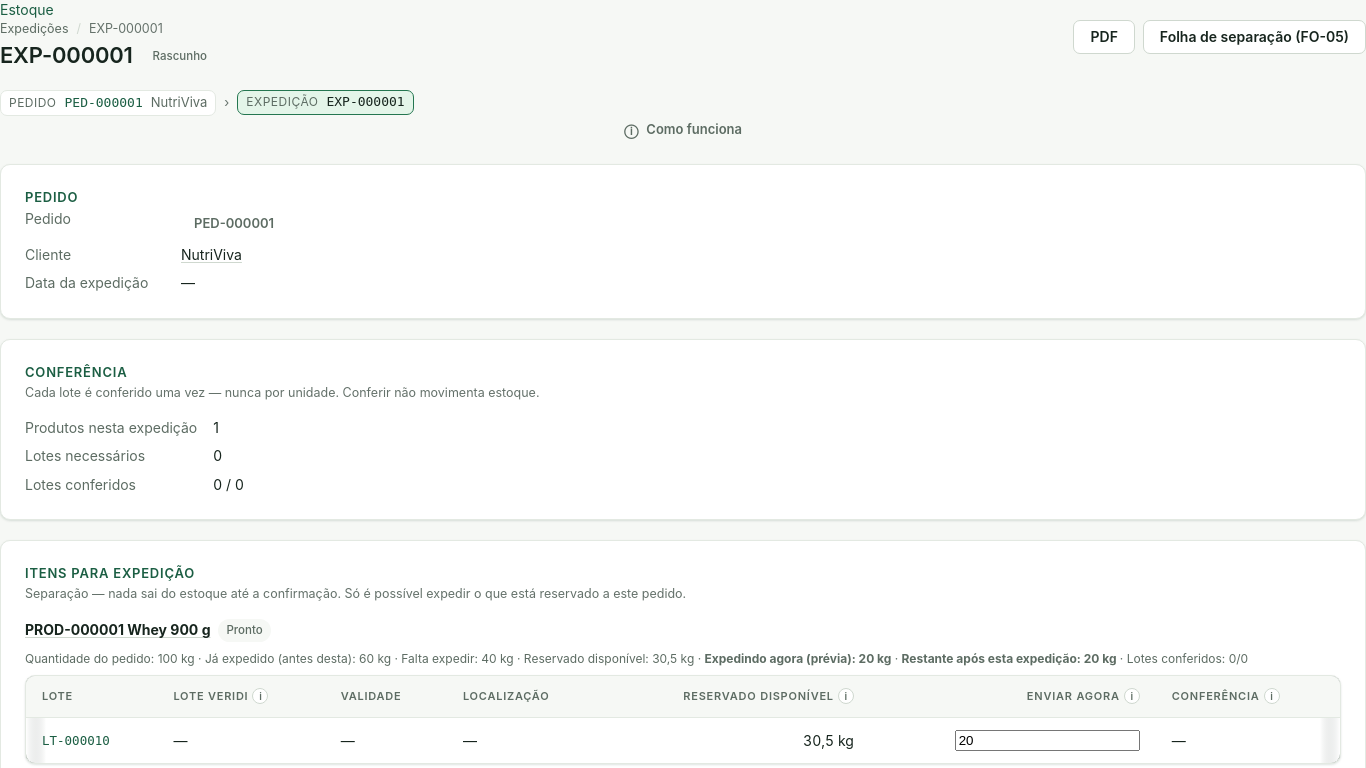
Scenario: Expedição — guarda de alterações não salvas › quantidade digitada: a faixa e o botão acordam, e sair pelo menu pergunta
Expected: the heading "EXP-000001" is shown, [0,42,133,70]
Replace the text in the field named "Quantidade do lote LT-000010" with "25" at (1047, 741), box [955,730,1140,751]
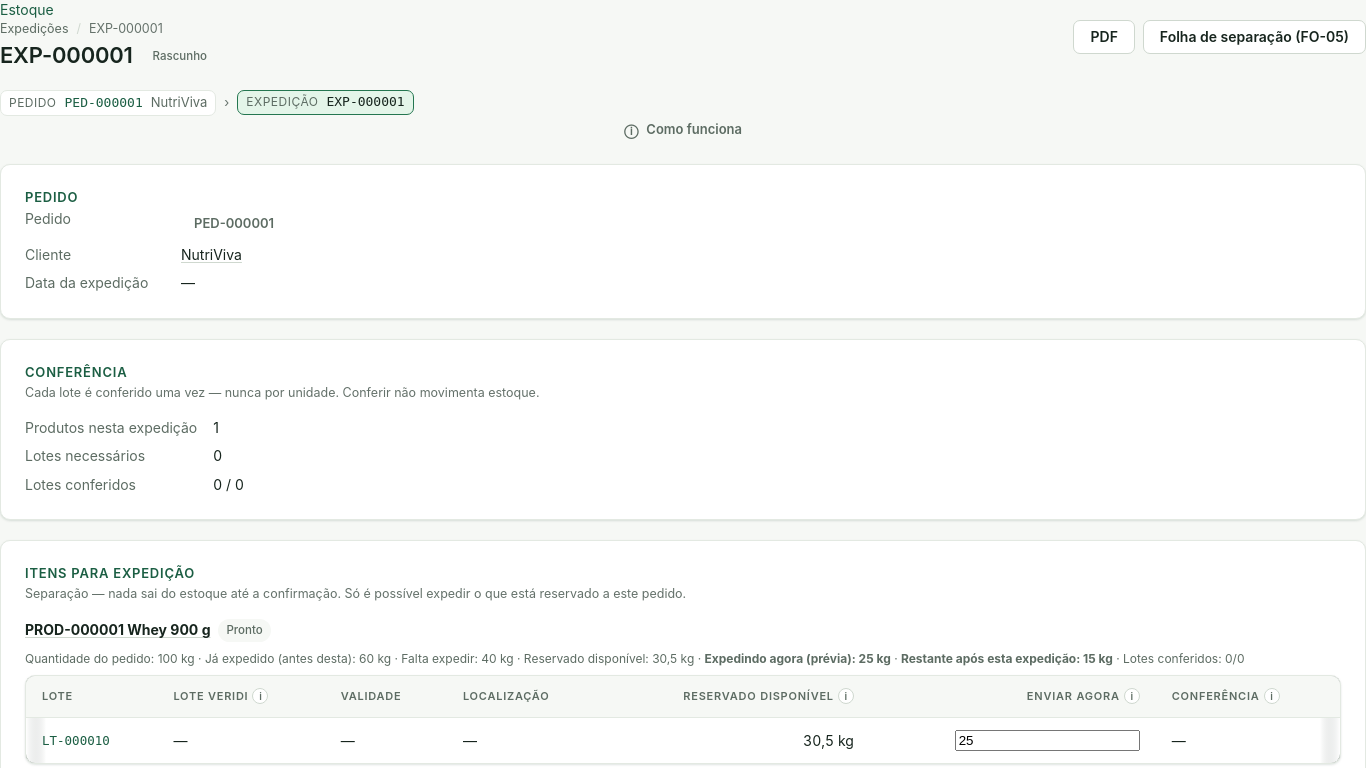
Click the link "Estoque" at (27, 10), box [0,1,54,18]
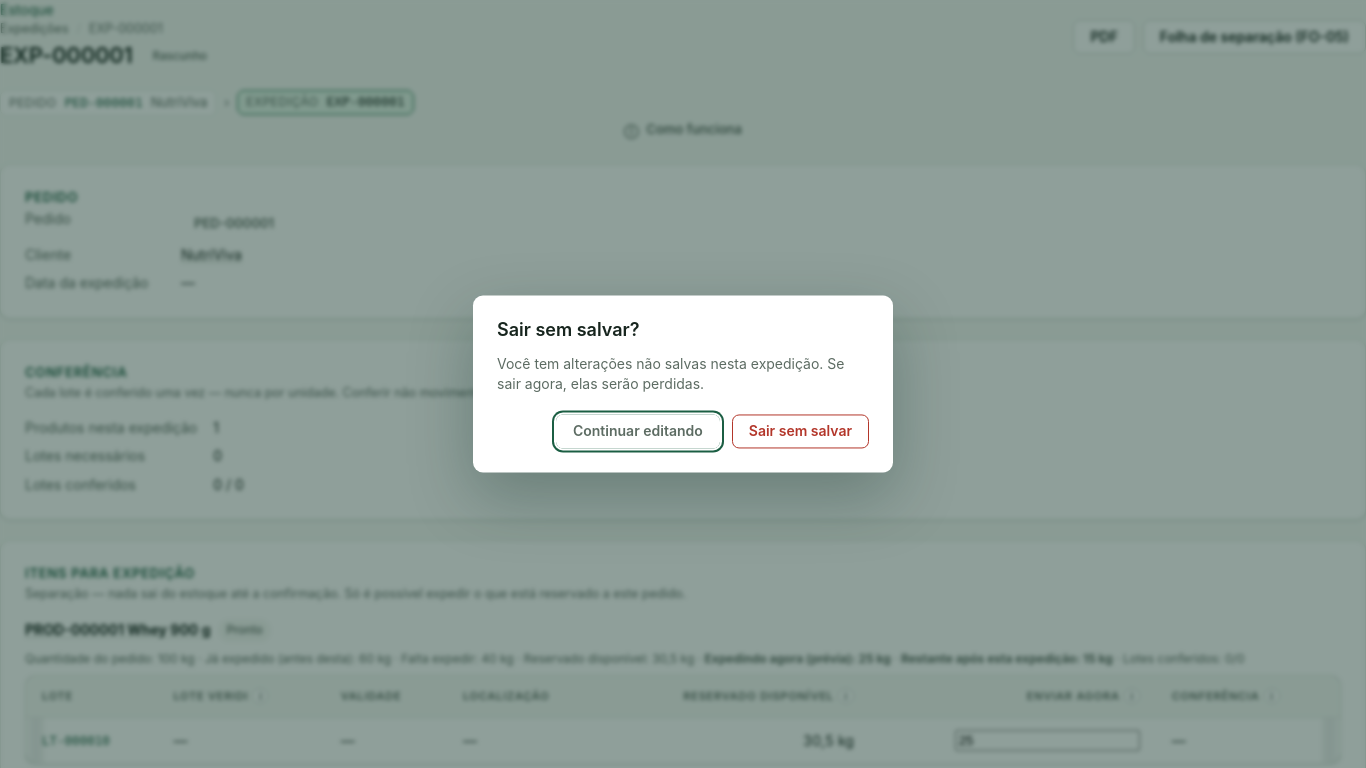
Result: the heading "Sair sem salvar?" is shown at [497,320,640,340]
Result: the text "alterações não salvas nesta expedição" is shown at [497,354,869,395]
Click the button "Continuar editando" at (638, 432), box [556,414,720,448]
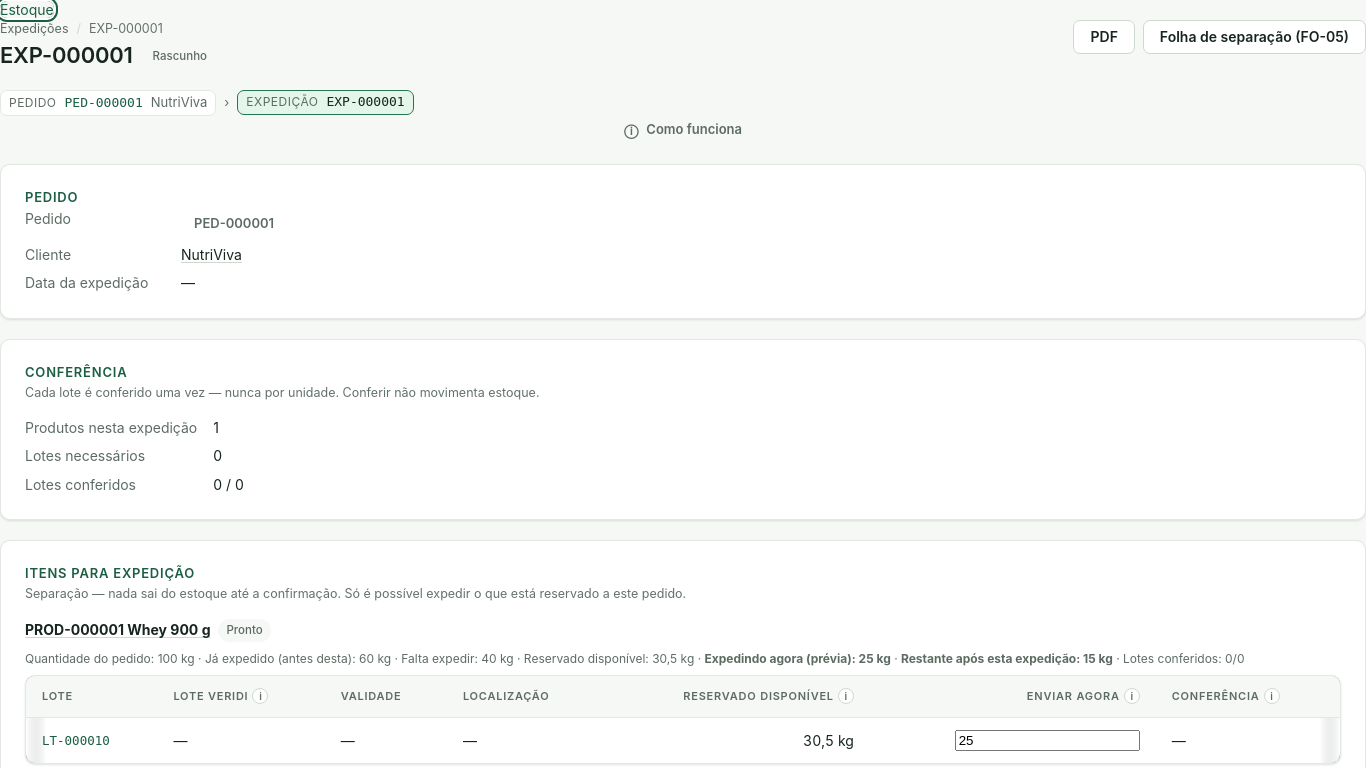
Result: the heading "Sair sem salvar?" is gone
